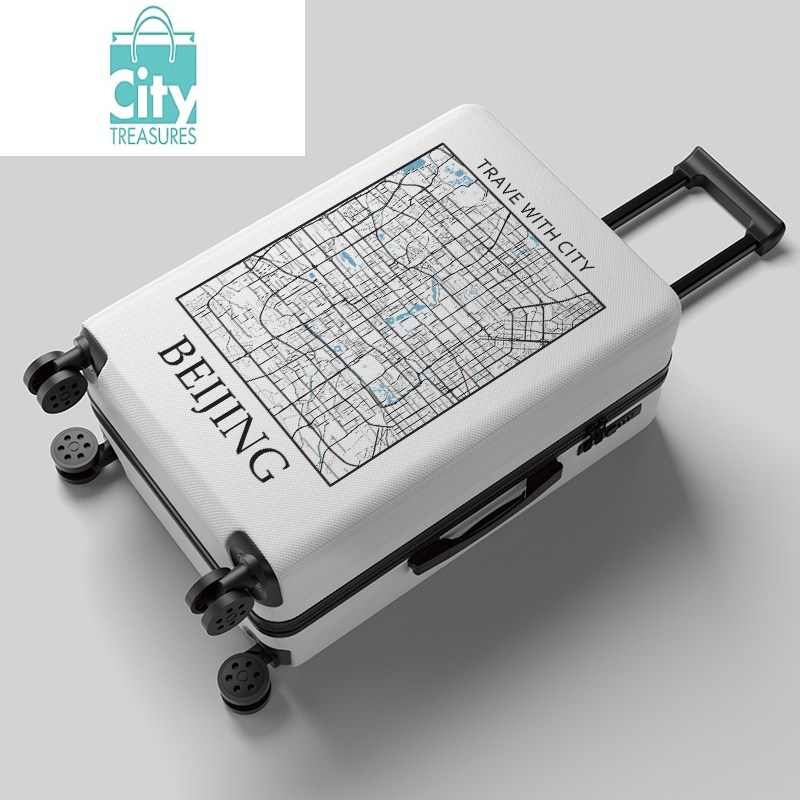box: (76, 103, 681, 673)
handle: (405, 457, 564, 576)
lock: (576, 403, 643, 458)
wheel: (184, 567, 255, 637), (23, 351, 88, 414), (217, 652, 273, 715), (51, 427, 103, 485)
